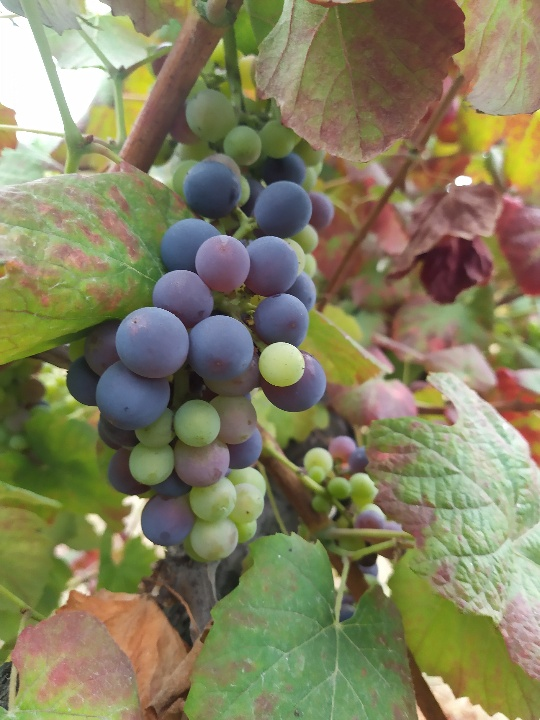grape: (64, 152, 331, 566)
